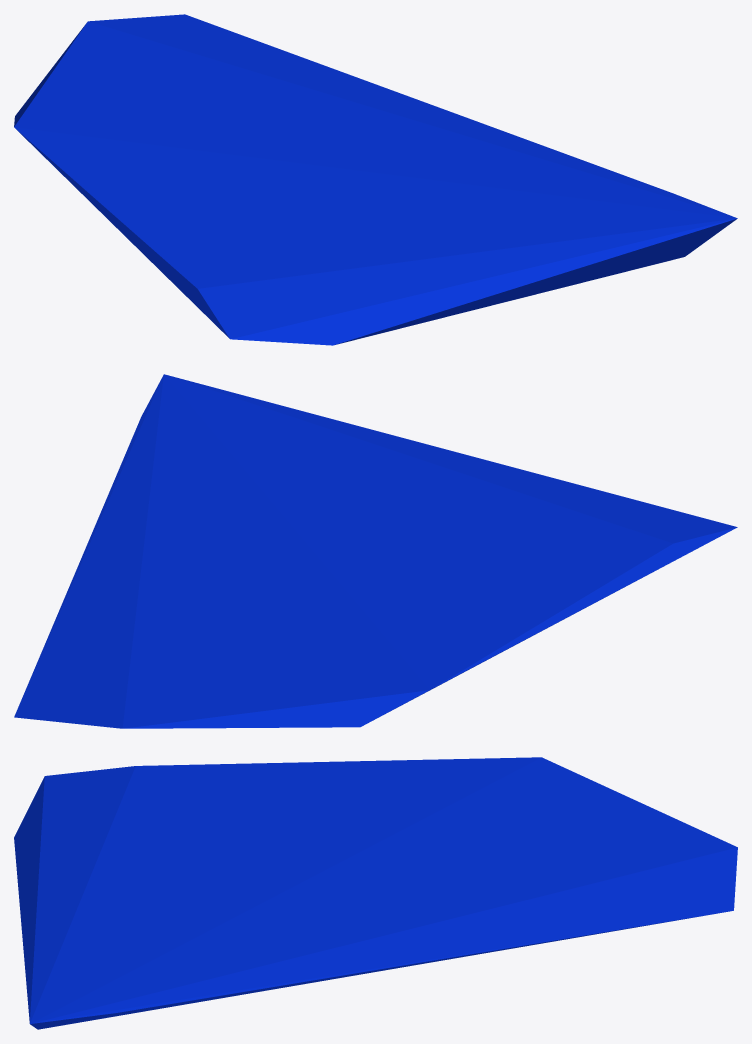
The model's file is torso_convex_piece_019.obj.
The picture shows the model from 3 angles, top to bottom: view 1: azimuth 30°, elevation 25°; view 2: azimuth 150°, elevation 25°; view 3: azimuth 270°, elevation 25°; orthographic projection. The views are drawn at different scales.
Size of the model in its own units: 0.1126 by 0.0119 by 0.1365.
